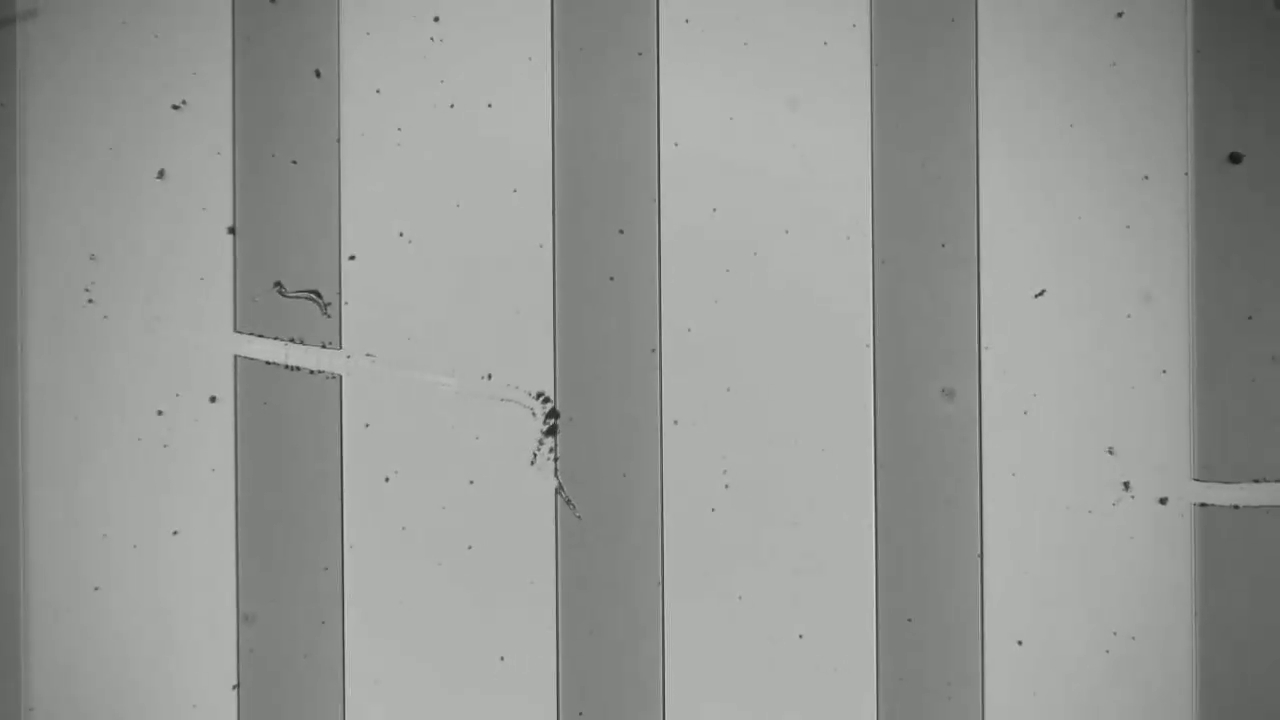Short_circuit: (208, 315, 377, 417), (1161, 458, 1280, 530)
